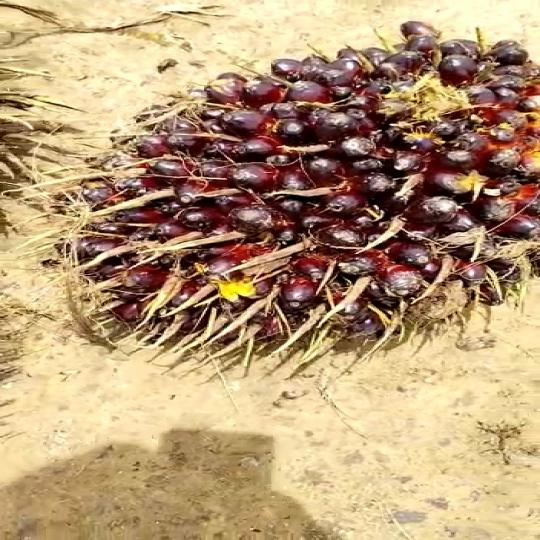mentah: (59, 16, 540, 393)
